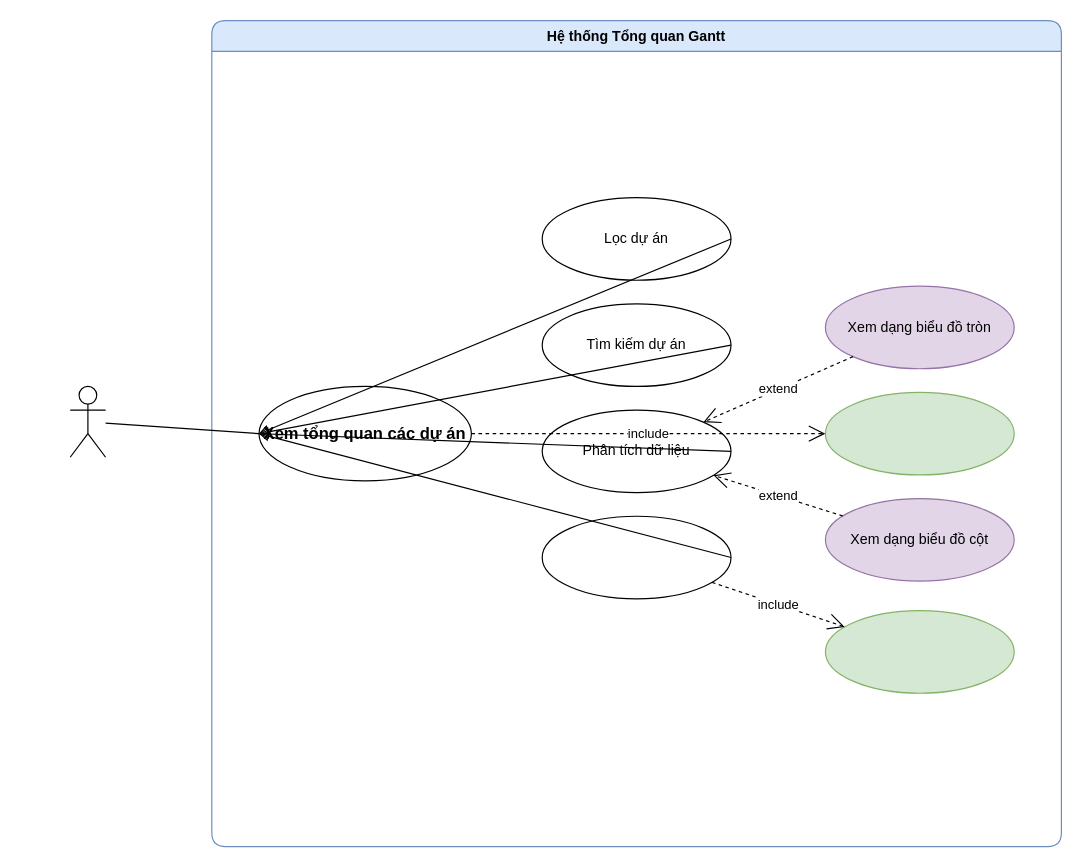
Image size: 1082x867. Some labels were removed from this diagram. Each missing label, with the centre of its shape:
"Quản lý / Người dùng" goes at pixel 87 421.
"Tải dữ liệu tất cả dự án" goes at pixel 919 433.
"Xem chi tiết dự án" goes at pixel 636 557.
"Điều hướng đến Gantt của dự án" goes at pixel 919 651.
